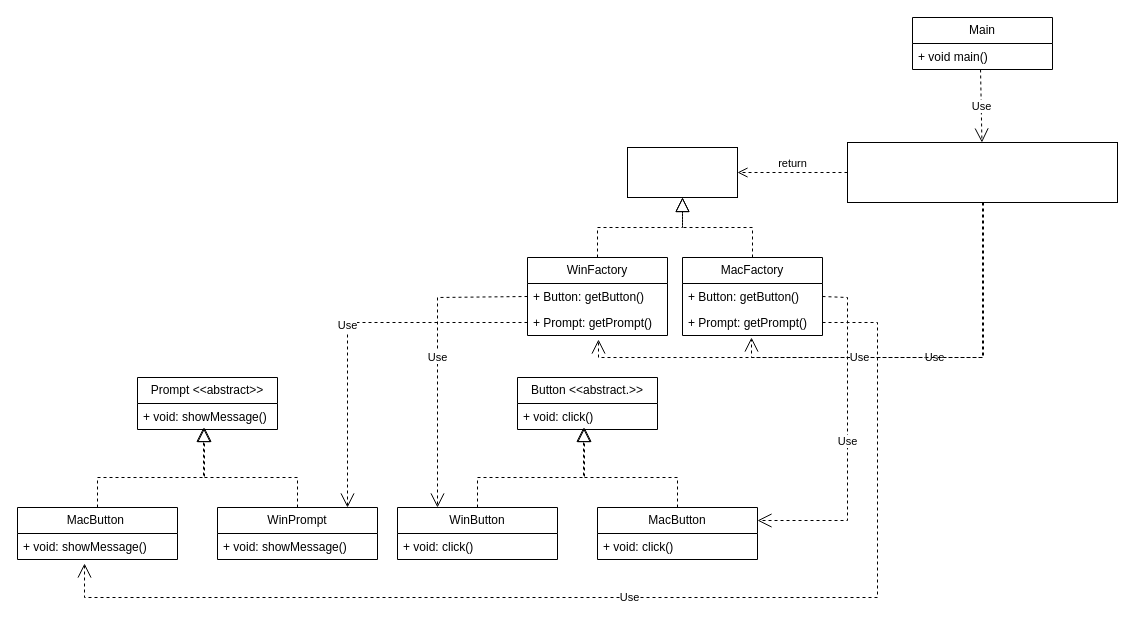
The diagram is 1135 pixels wide and 629 high, and some of its shapes have lost their labels. Here are the shapes that lost their labels. From the top down, the centre of each, then its label:
At (x=682, y=172): "«interface» OSFactory".
At (x=982, y=172): "AbstractGUIFactory +createComponentsFactory(): OSFactory".
